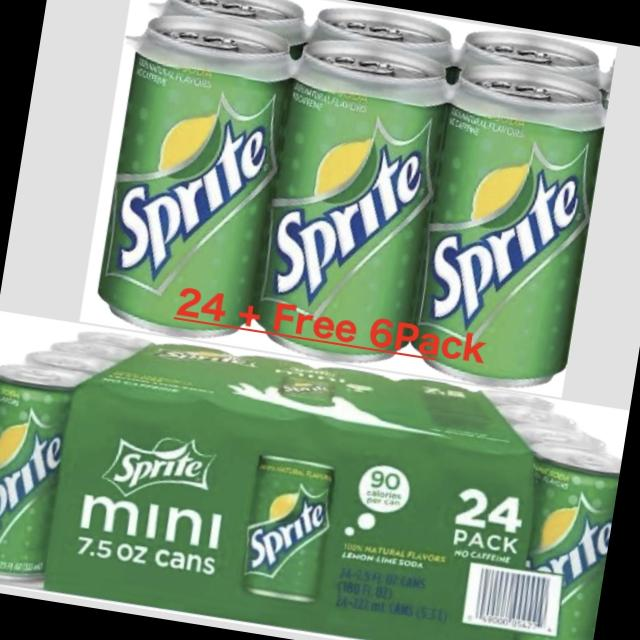sprite: (249, 30, 458, 382), (87, 14, 305, 342), (410, 51, 610, 373), (498, 447, 621, 640), (0, 373, 96, 593)
